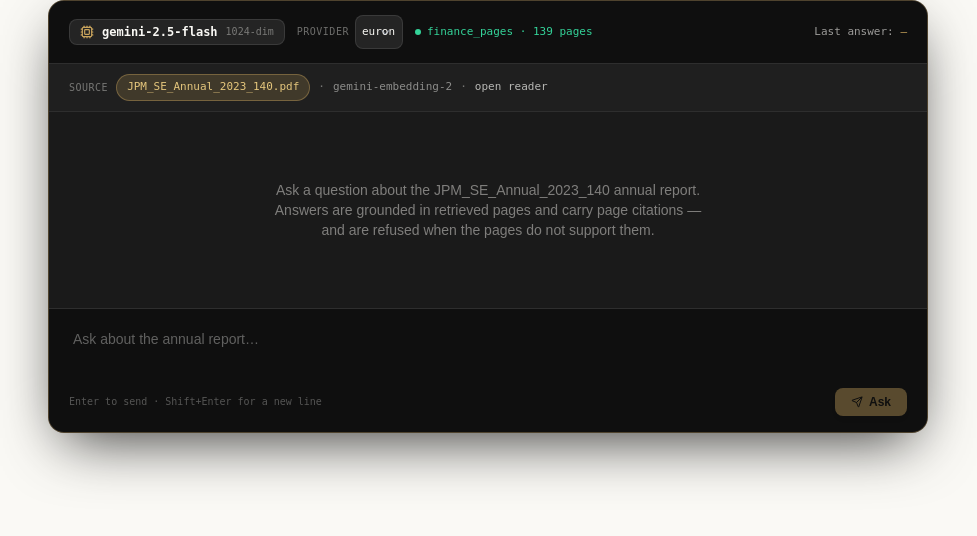
refusals and failures › surfaces a backend error with its real message
Expected: the text "gemini-2.5-flash" is shown, 102,24 -> 218,40
Type "net interest income?" into the text box at [488, 348], box 69,324 -> 907,372
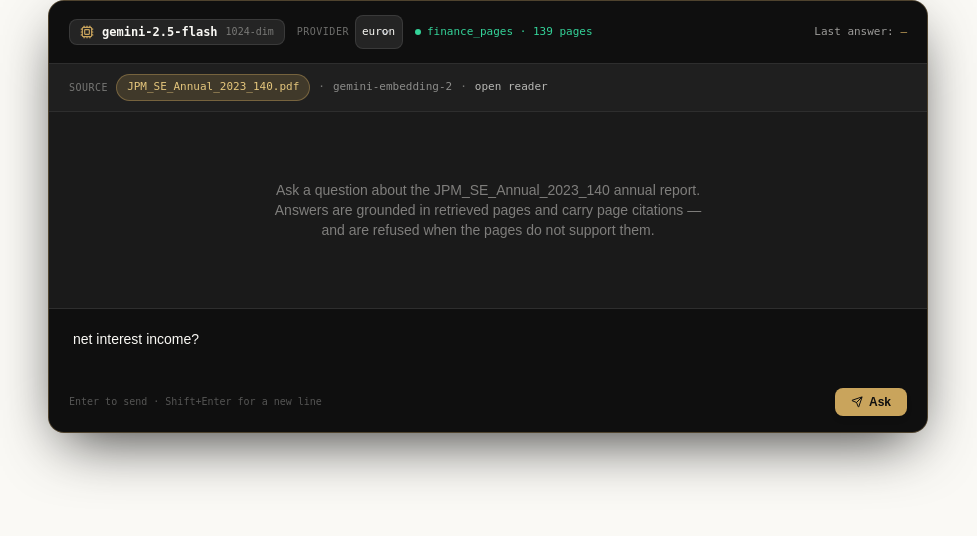
Click the button "Ask" at [871, 402], box 835,388 -> 907,416
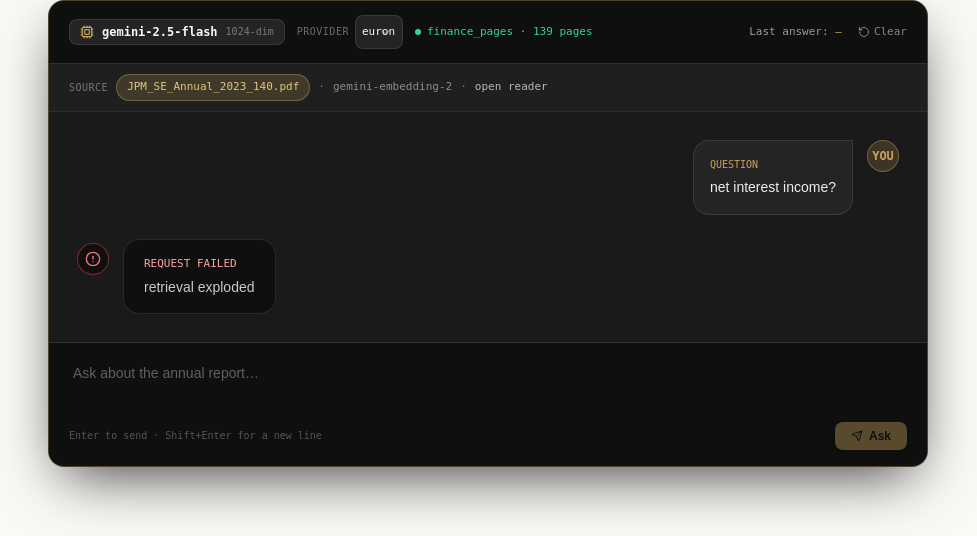
Expected: the text "REQUEST FAILED" is shown, 144,257 -> 237,270
Expected: the text "retrieval exploded" is shown, 144,277 -> 254,297
